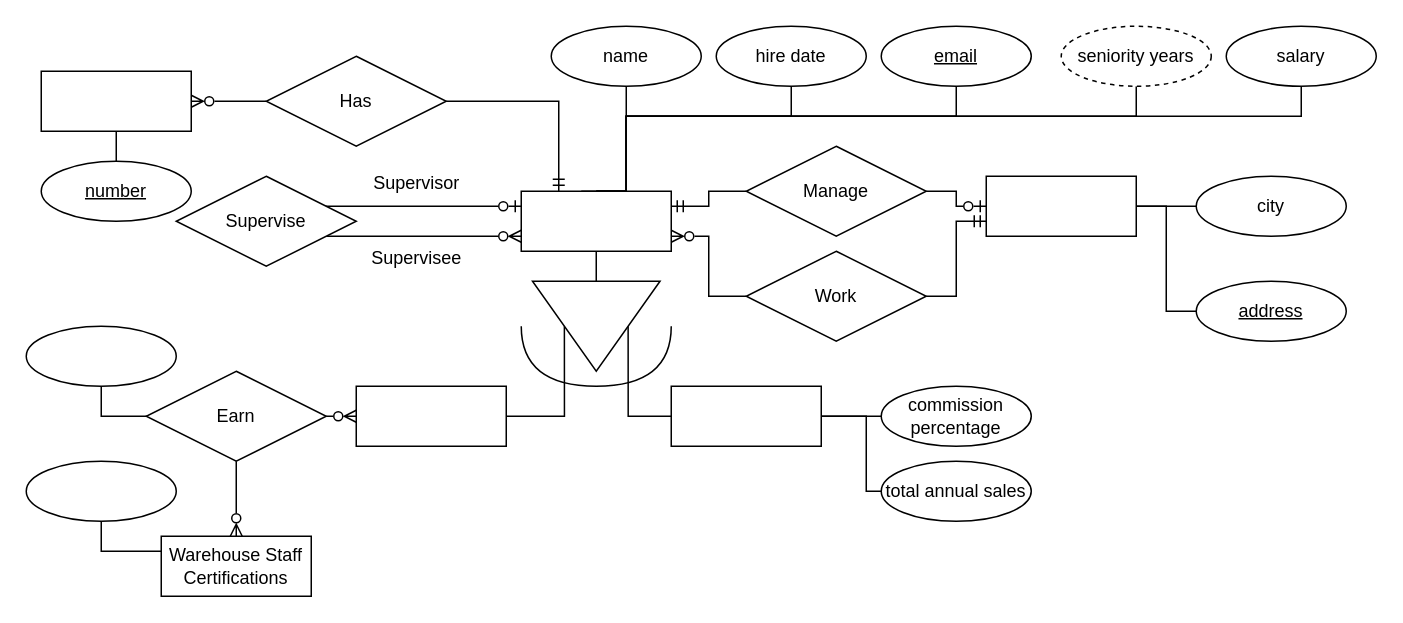
This 1403x623 diagram has some shape labels left out. The shapes that lost their labels are listed below. From the top down, each one's box as (x1, y1, x2, y2) in pixels, then its label:
(40, 70, 191, 131): Phone number
(520, 190, 671, 251): Employee
(985, 175, 1136, 236): Branch
(25, 325, 176, 386): date of certification
(355, 385, 506, 446): Warehouse Staff
(670, 385, 821, 446): Salesmen
(25, 460, 176, 521): certification name
